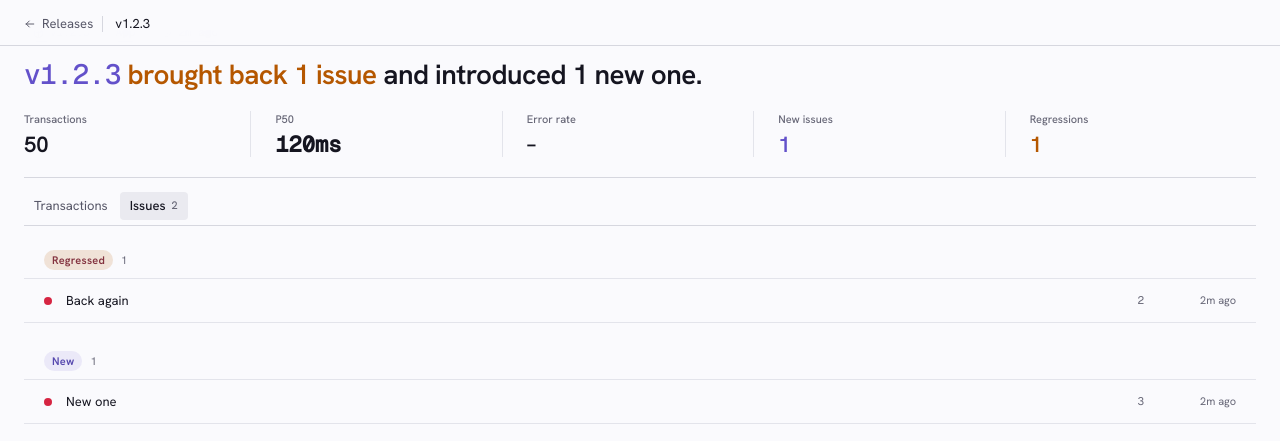
Test: ReleaseDetailView › loaded release › opens on the issues when the release brought back or introduced some, regressions first
The image size is (1280, 441).
Check: the button with class "optab--active" shows "Issues", box [120,192,188,220]
Check: the elements with class "rel-category-badge" read "Regressed", "New", in this order, box [44,250,113,270]; [44,351,82,372]
Click the button with class "optab" showing "Transactions". click: (71, 206)
box: [24,192,118,220]
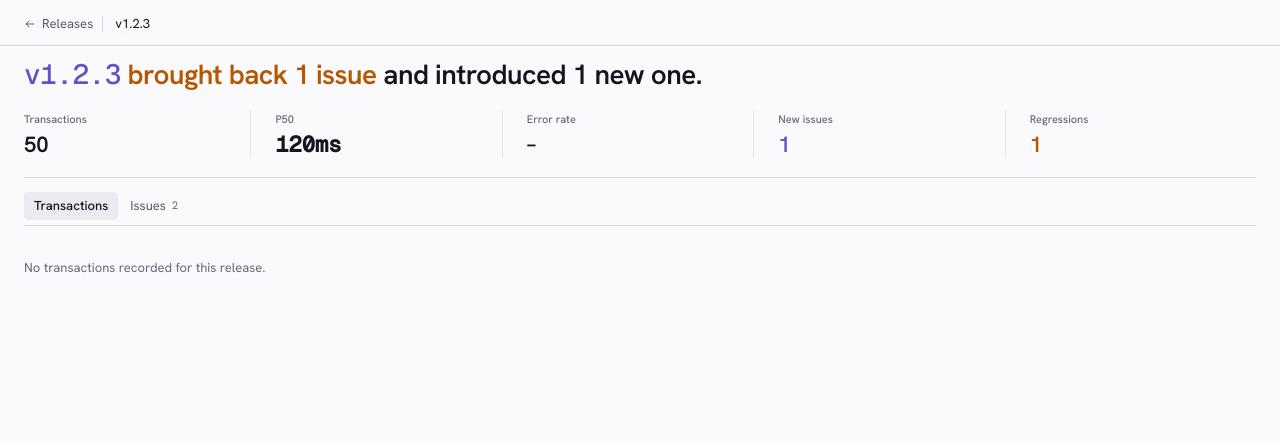
Check: the text "No transactions recorded for this release" is shown, box [24,259,266,276]
